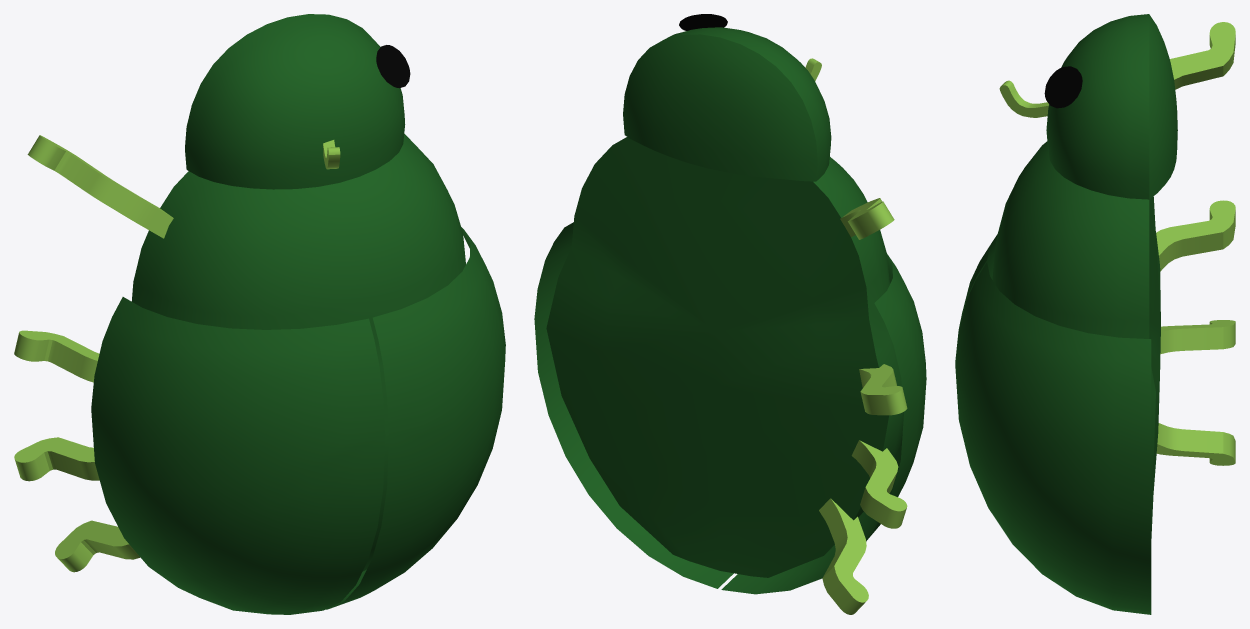
Rendered from beetle.glb.
3 renders of one model, left to right at view 1: azimuth 30°, elevation 25°; view 2: azimuth 150°, elevation 25°; view 3: azimuth 270°, elevation 25°, orthographic. The views are drawn at different scales.
Parts seen in each view (by area): view 1: Sphere.384, Cube.138, Cube.139, Cube.141, Circle.1998; view 2: Cube.138, Cube.139, Sphere.384, Cube.141, Circle.1998; view 3: Sphere.384, Cube.138, Cube.139, Cube.141, Circle.1998, Cube.140.
Part boxes in pixels (<box>): Sphere.384: <box>91,227,505,614</box>; Cube.138: <box>131,134,465,571</box>; Cube.139: <box>185,14,405,189</box>; Cube.141: <box>14,135,173,572</box>; Circle.1998: <box>376,45,410,88</box>; Cube.138: <box>546,137,903,577</box>; Cube.139: <box>623,27,831,181</box>; Sphere.384: <box>534,222,926,594</box>; Cube.141: <box>819,198,907,614</box>; Circle.1998: <box>679,14,727,30</box>; Sphere.384: <box>955,234,1151,614</box>; Cube.138: <box>992,141,1160,538</box>; Cube.139: <box>1046,14,1177,199</box>; Cube.141: <box>1156,22,1235,465</box>; Circle.1998: <box>1044,66,1082,108</box>; Cube.140: <box>999,80,1048,117</box>.
Bounding box in the file's own units: 1.7 × 2.2 × 0.9838.
1 material, 1 textured.
